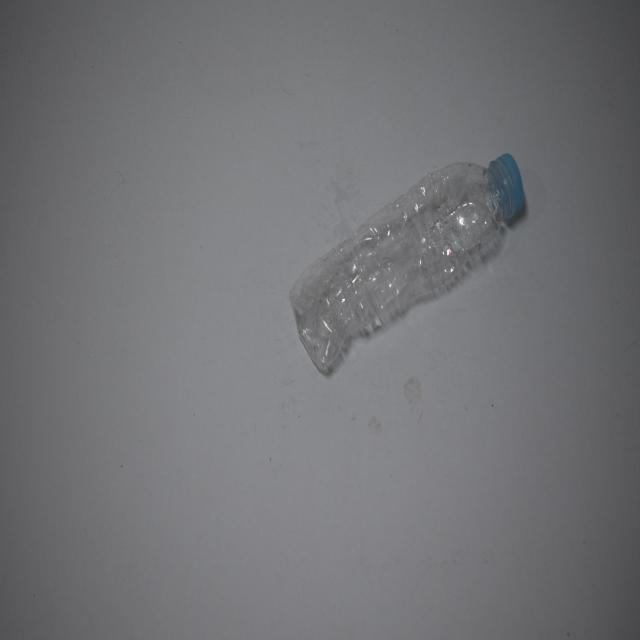empty: (289, 154, 524, 374)
